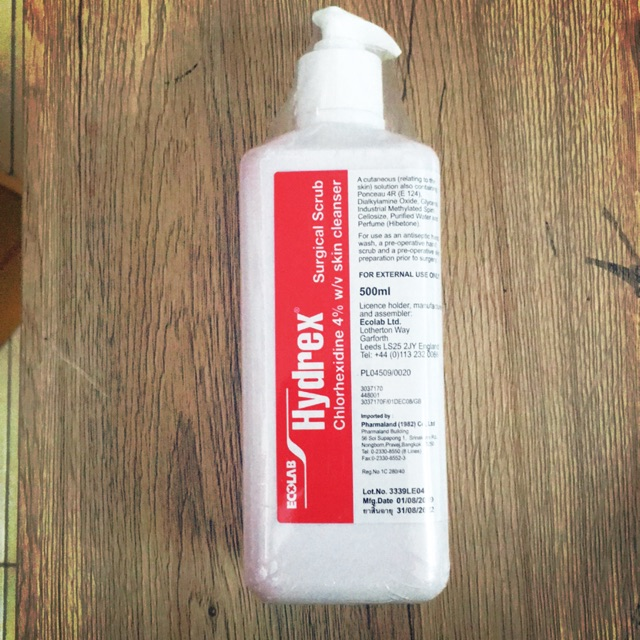Cleaning_solution: (231, 4, 455, 608)
